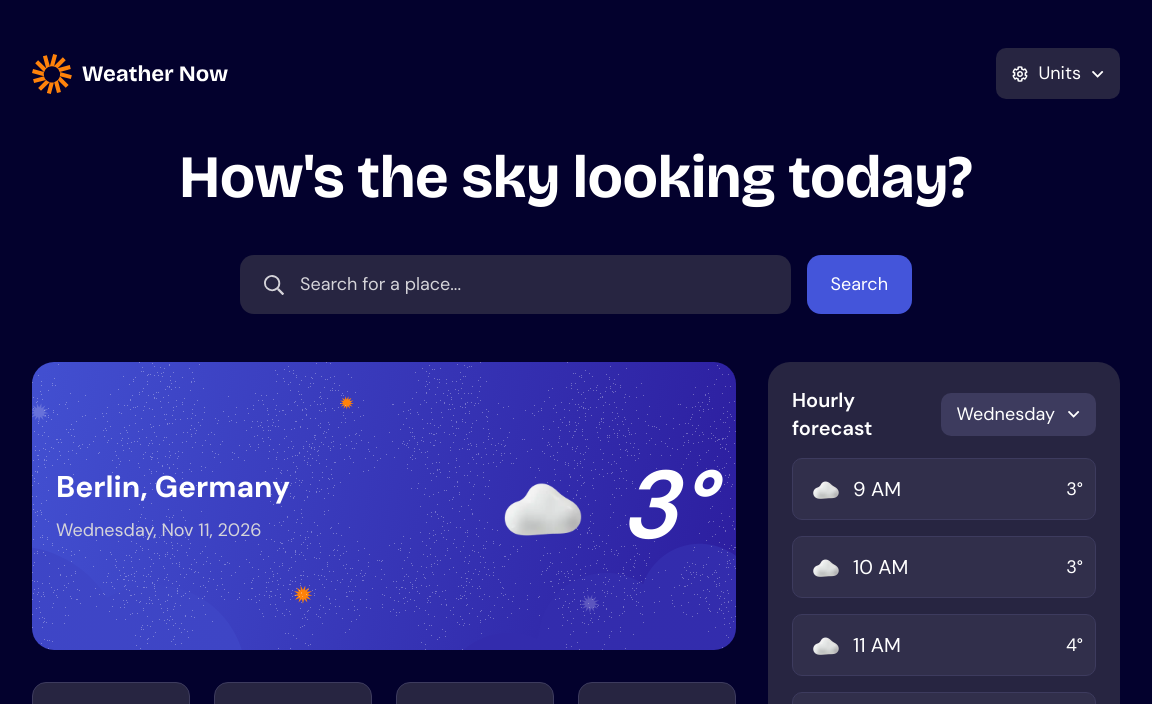
Test case: 검색 진행 중 › 검색 중에는 회전 아이콘을 보이고 응답을 받으면 아이콘이 사라진다
The width and height of the screenshot is (1152, 704).
Expected: the text "Berlin, Germany" is shown, [56, 468, 290, 504]
Type "Berlin" into the dropdown at (515, 284), box [240, 255, 791, 314]
Then press Enter
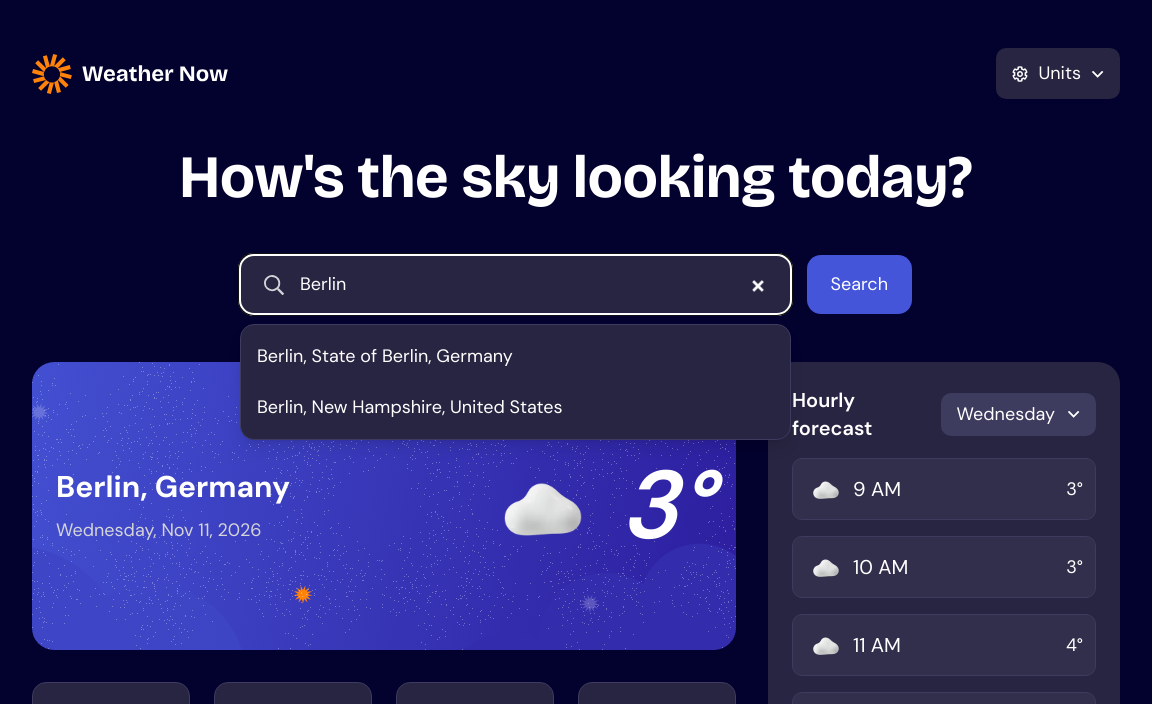
Result: the list named "Search results" is shown at [240, 324, 791, 440]
